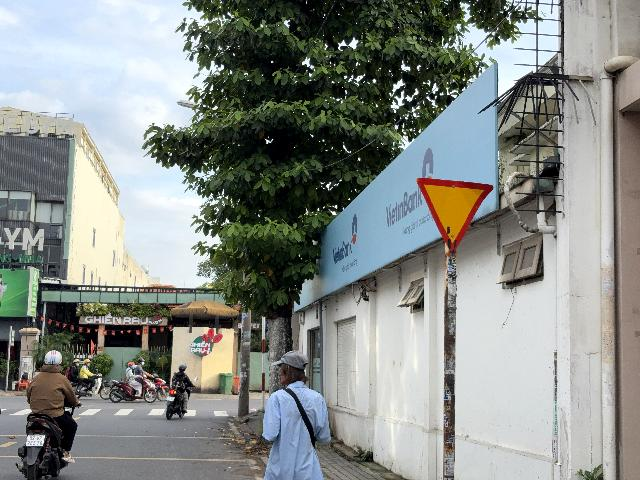giao-nhau-voi-duong-uu-tien: (416, 176, 494, 253)
